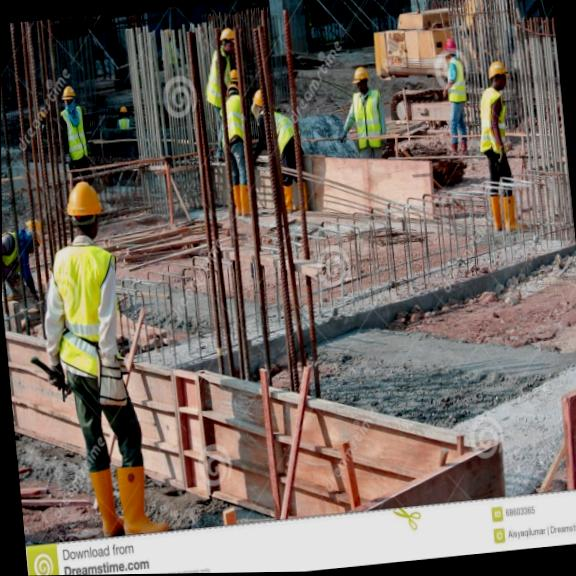safety_vest: (48, 235, 126, 382), (477, 82, 510, 160), (349, 88, 387, 153), (60, 104, 94, 164), (446, 54, 471, 109)
